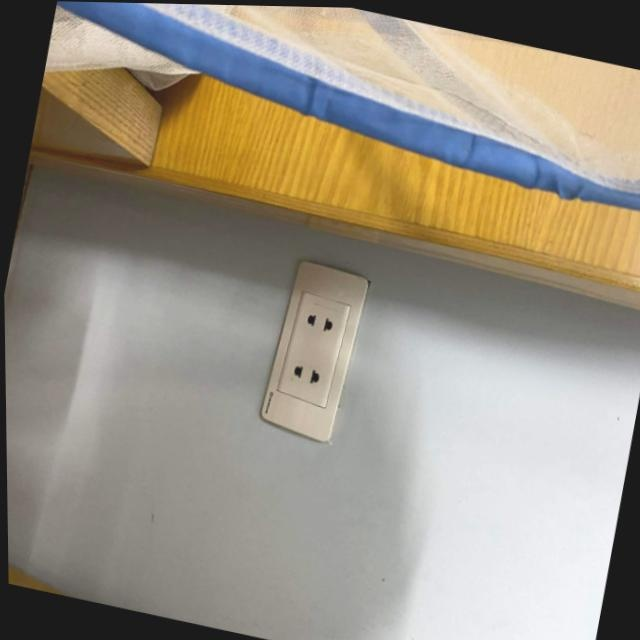outlet: (254, 255, 373, 447)
